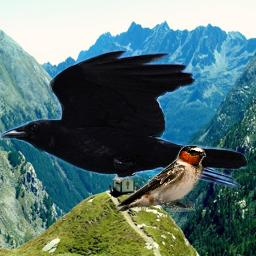Crow: (0, 50, 249, 189)
Swallow: (115, 144, 206, 212)
